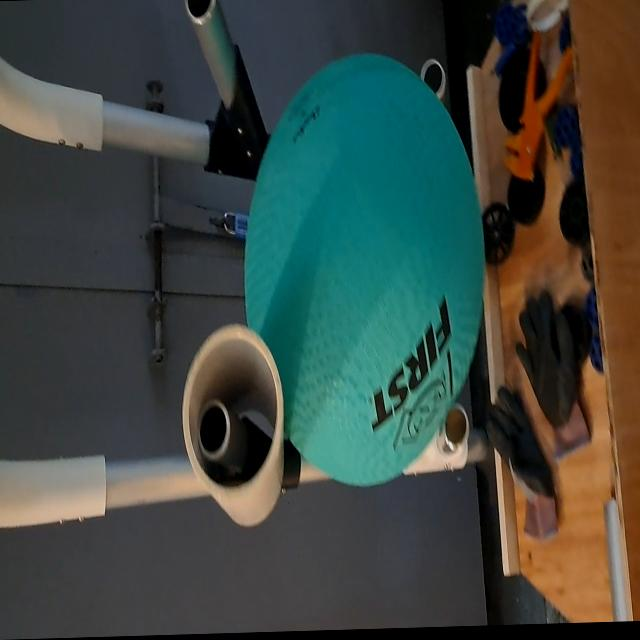ALGAE: (236, 53, 482, 492)
CORAL: (178, 319, 290, 534)
